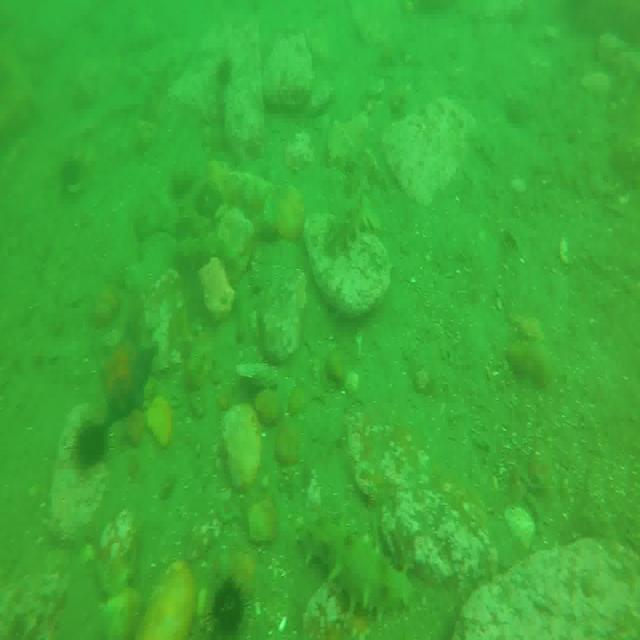echinus: (208, 576, 248, 636), (74, 420, 109, 470)
holothurian: (300, 502, 415, 614), (328, 168, 372, 254)
starfish: (102, 329, 154, 419)
